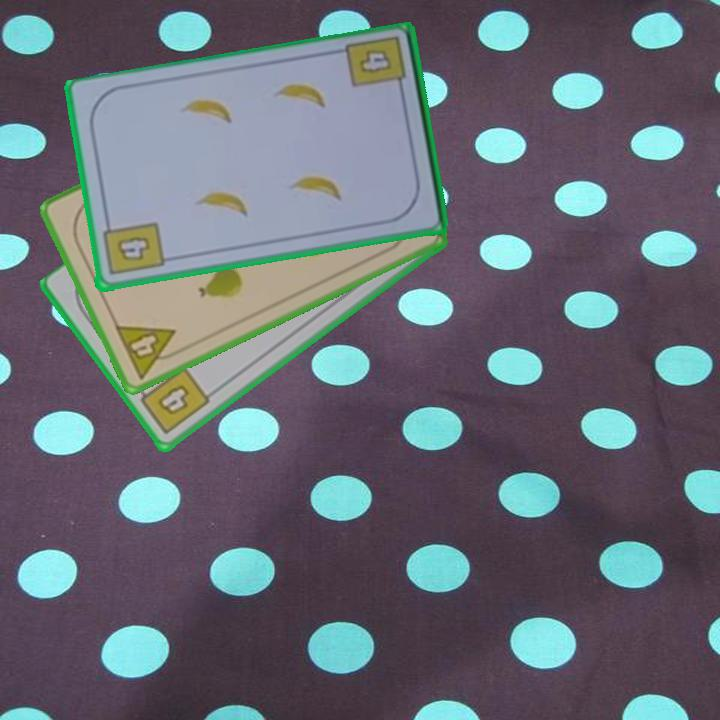4b: (133, 363, 213, 438), (98, 216, 166, 279), (355, 46, 395, 77)
4p: (111, 321, 187, 382)
